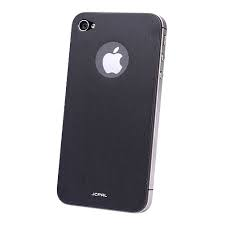iphone: (53, 8, 171, 217)
iphone4: (54, 8, 172, 217)
